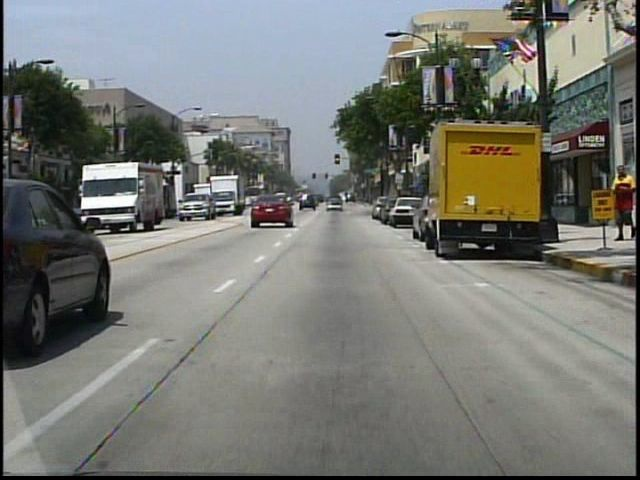person: (607, 164, 635, 242)
